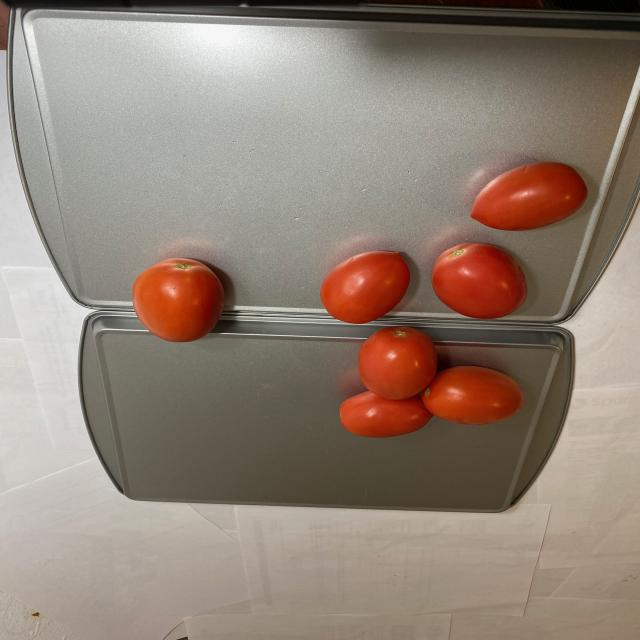tomato: (329, 150, 595, 440), (131, 254, 230, 346)
